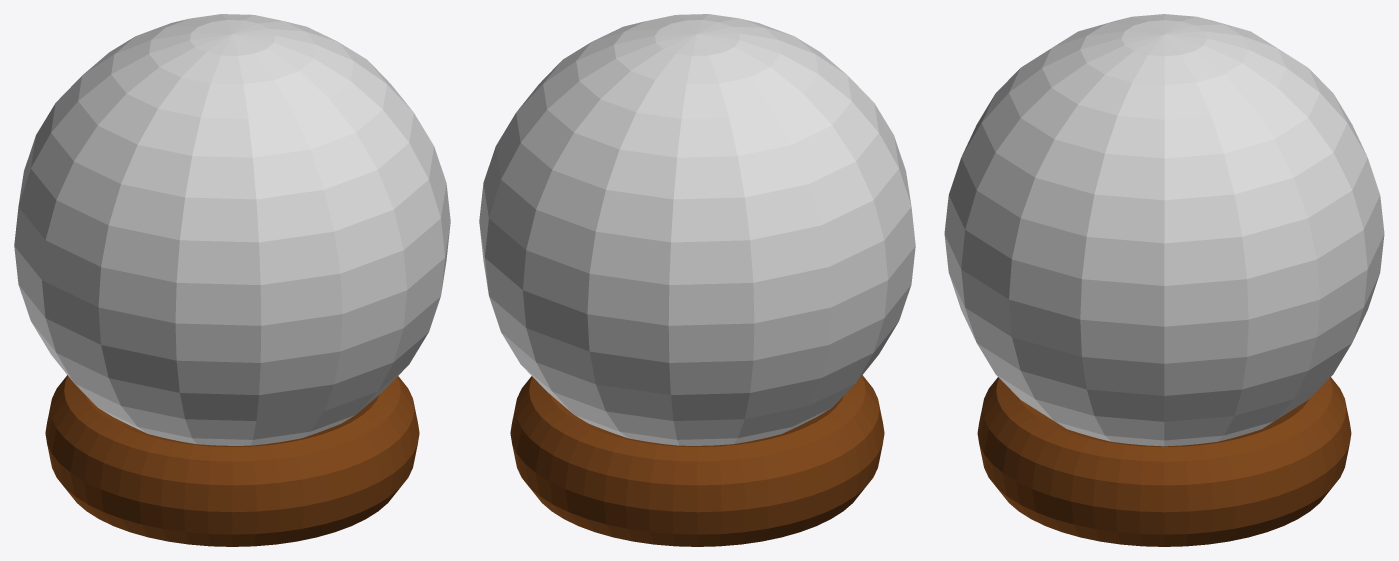
The model's file is Cristal_Ball.fbx.
The picture shows the model from 3 angles, left to right: view 1: azimuth 30°, elevation 25°; view 2: azimuth 150°, elevation 25°; view 3: azimuth 270°, elevation 25°; orthographic projection.
Visible parts, largest first — view 1: Sphere, Torus; view 2: Sphere, Torus; view 3: Sphere, Torus.
Part boxes in pixels (x1=…): Sphere: x1=14, y1=14, x2=450, y2=445; Torus: x1=45, y1=375, x2=419, y2=546; Sphere: x1=479, y1=14, x2=915, y2=445; Torus: x1=510, y1=375, x2=884, y2=546; Sphere: x1=944, y1=14, x2=1384, y2=446; Torus: x1=977, y1=377, x2=1351, y2=546.
Size of the model in its own units: 28.01 by 31.47 by 28.01.
